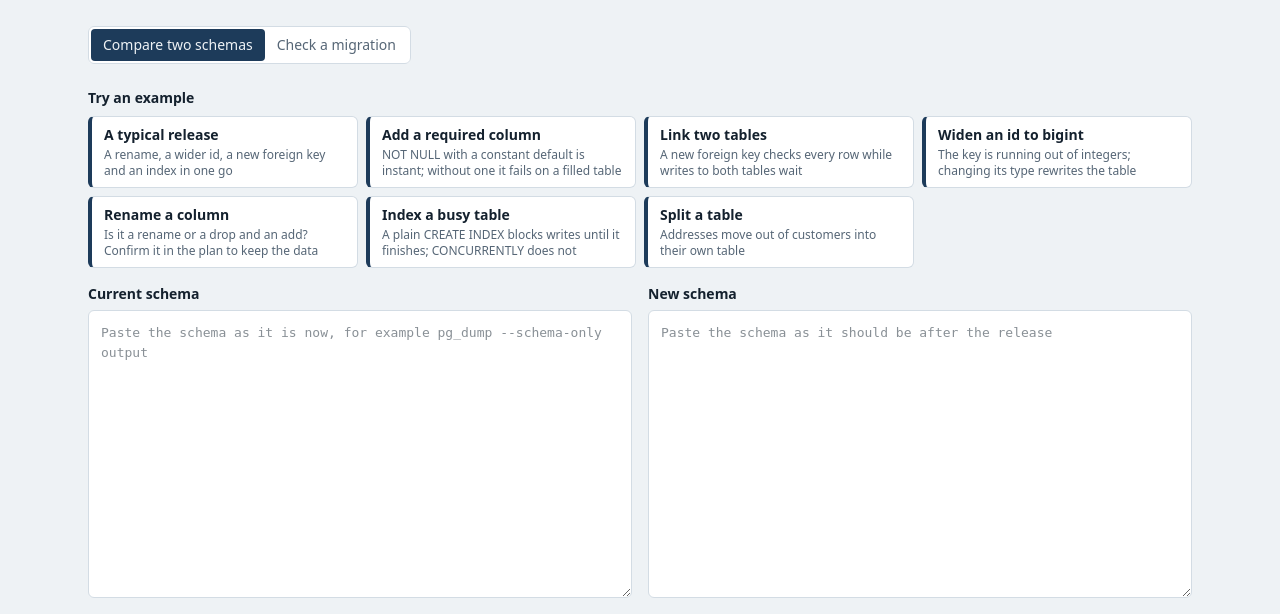
Scenario: The plan as a migration › checks the generated plan against the current schema
Click the button "A typical release".
click(223, 152)  # box [88,116,358,188]
(page scrolled)
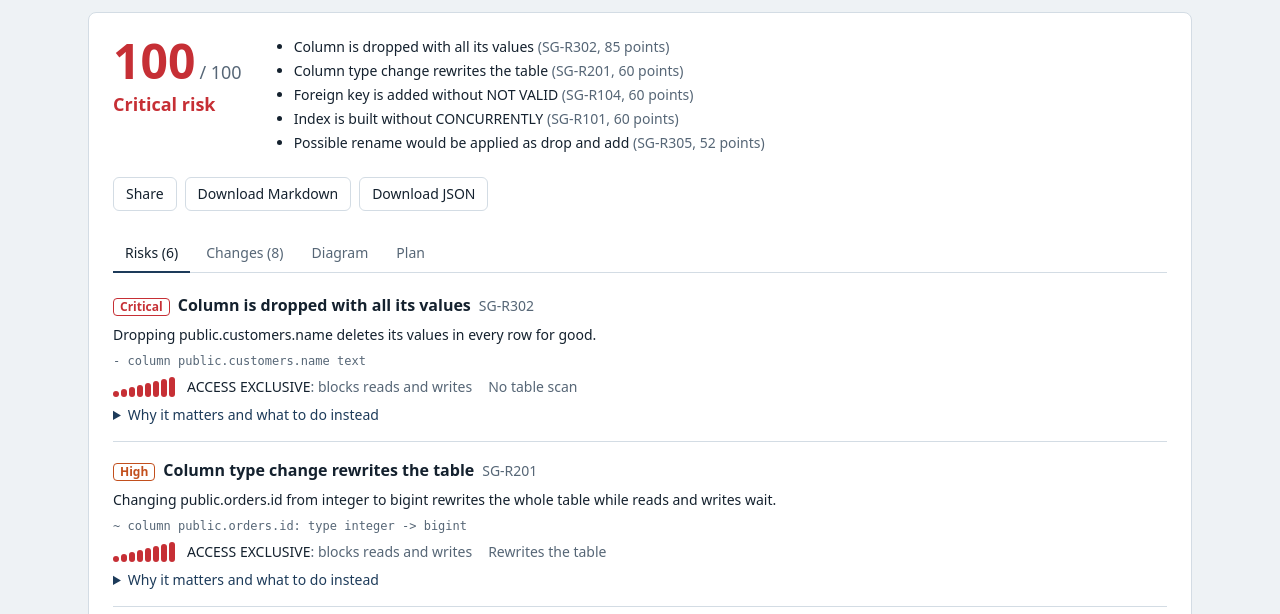
Expected: the element named "Overall risk" is shown, [113,28,765,152]
Click the tab "Plan".
click(411, 254)  # box [384,235,437,273]
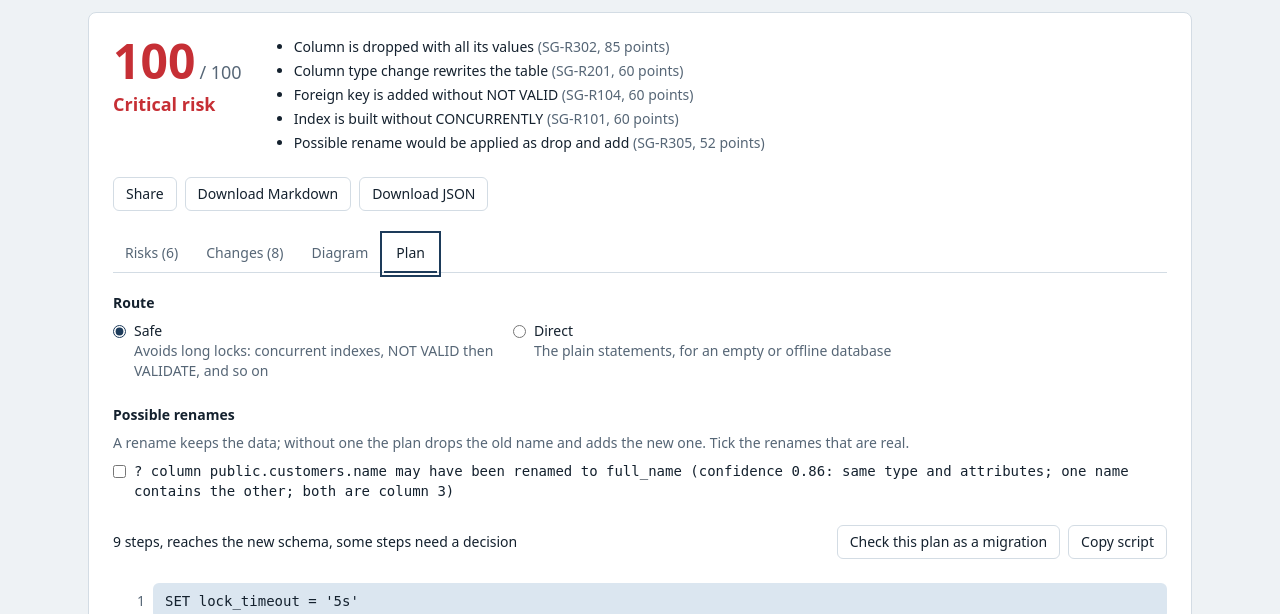
Click the button "Check this plan as a migration".
click(948, 542)  # box [837,525,1060,559]
(page scrolled)
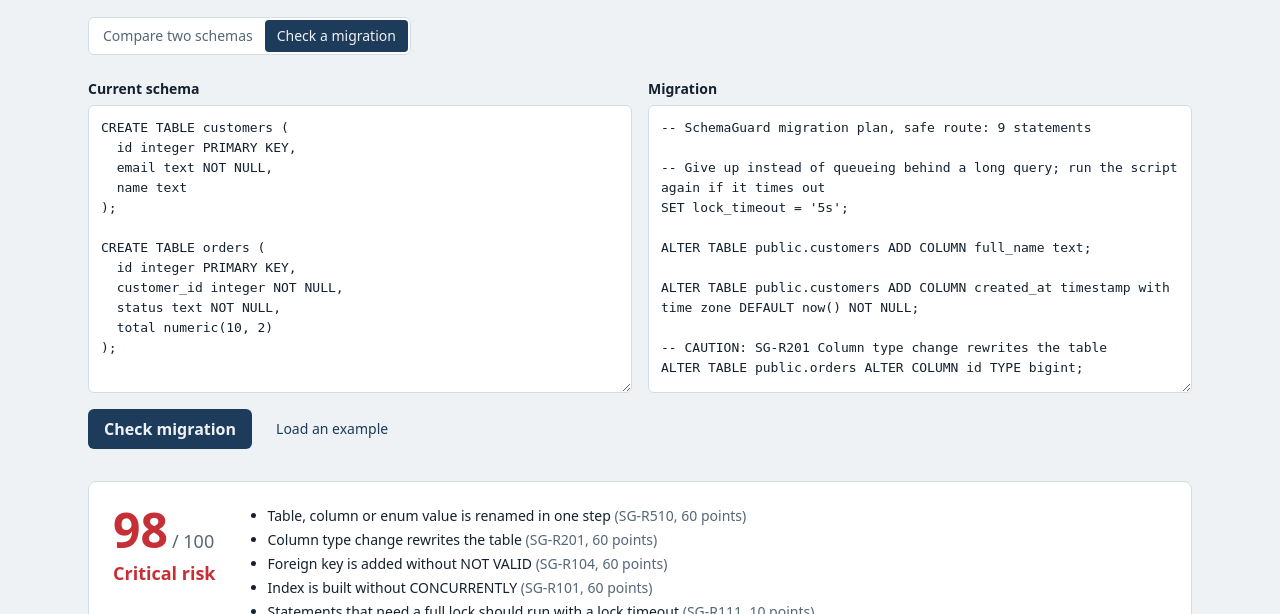
Expected: the button "Check migration" is shown, [88,409,252,449]
Expected: the radio button labelled "Check a migration" is checked, [265,20,408,52]
